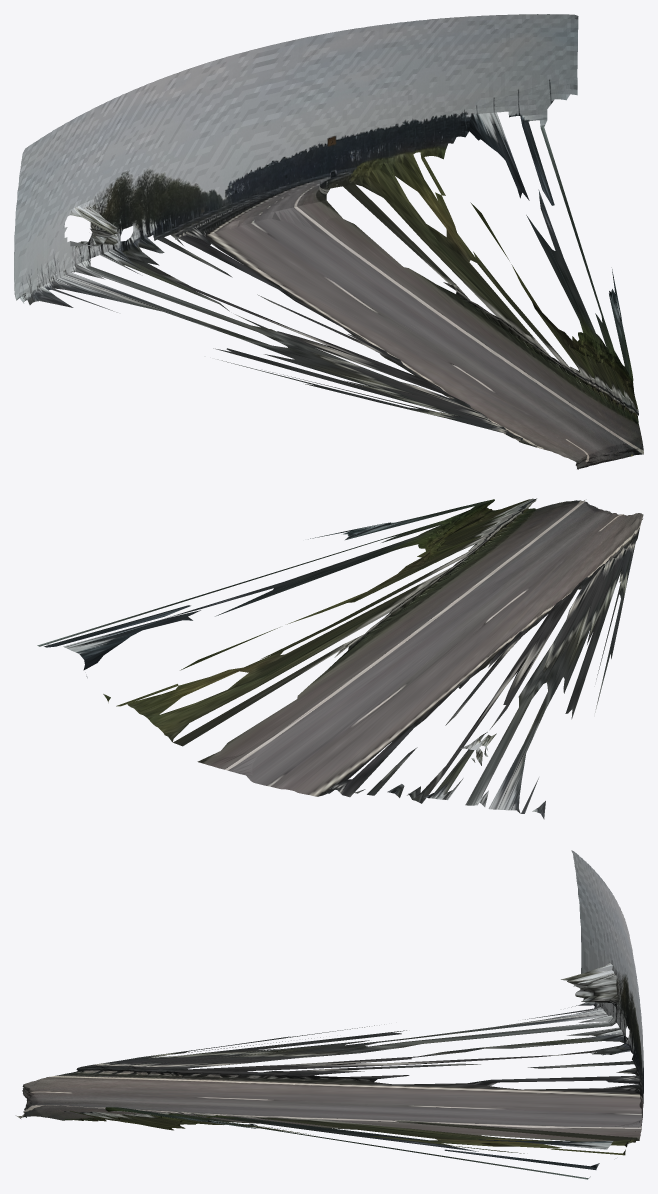
3 renders of one model, top to bottom at view 1: azimuth 30°, elevation 25°; view 2: azimuth 150°, elevation 25°; view 3: azimuth 270°, elevation 25°, orthographic. The views are drawn at different scales.
Visible parts, largest first — view 1: defaultobject; view 2: defaultobject; view 3: defaultobject.
Boxes of the visible parts, x1,y1,x2,y2 form: defaultobject: (14, 14, 643, 469); defaultobject: (37, 498, 643, 819); defaultobject: (15, 850, 643, 1179).
Bounding box in the file's own units: 41.06 × 12.47 × 44.93.
1 material, 1 textured.
